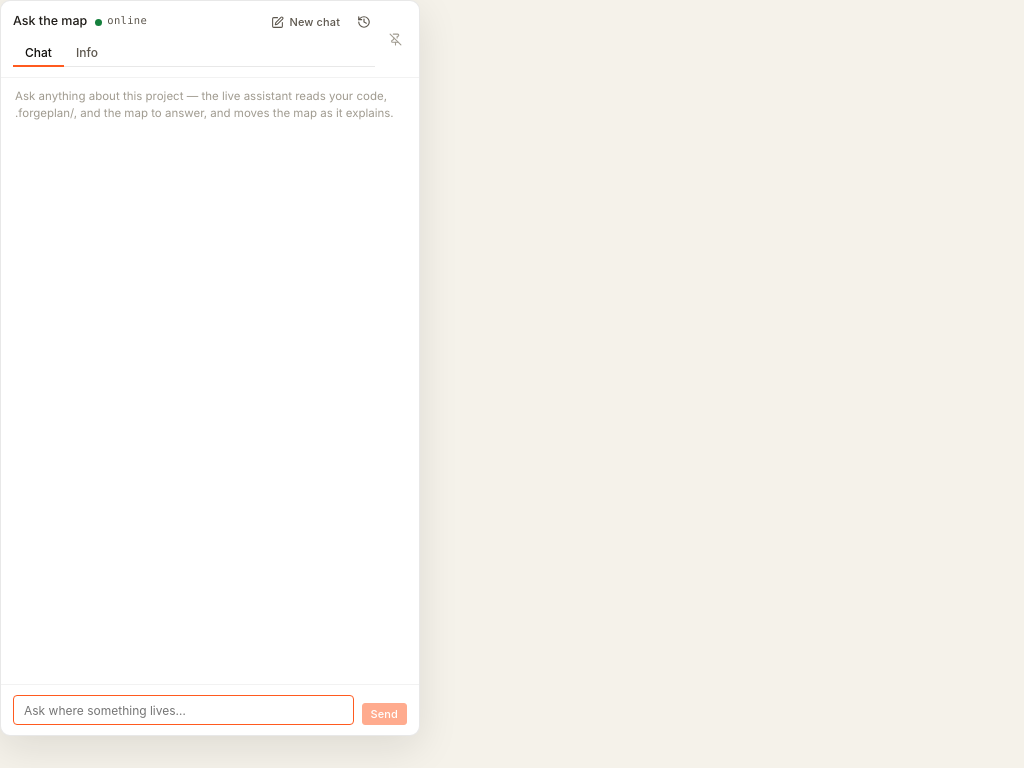
it: MapChat — tier1 (live) › shows Stop instead of Send while pending, then Send (disabled when empty) once the answer completes
Type "Where does artifact recording live?" into the text box named "Ask the map a question" at (183, 710), box [13, 695, 354, 725]
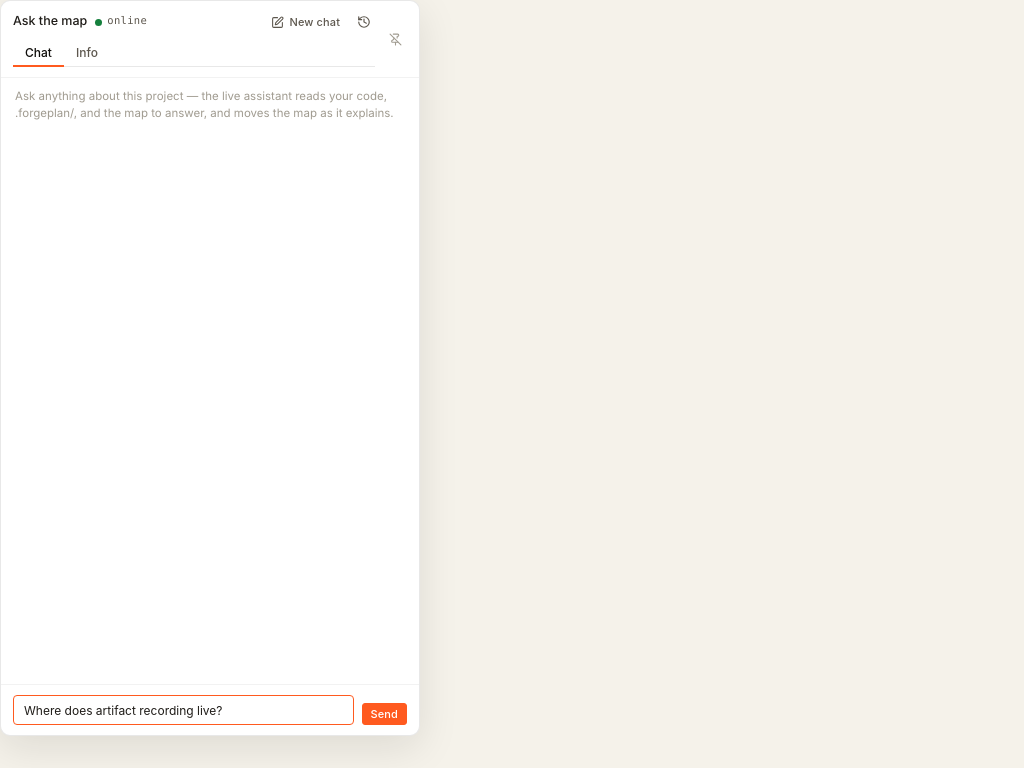
Click the button "Send" at (384, 714), box [362, 703, 407, 725]
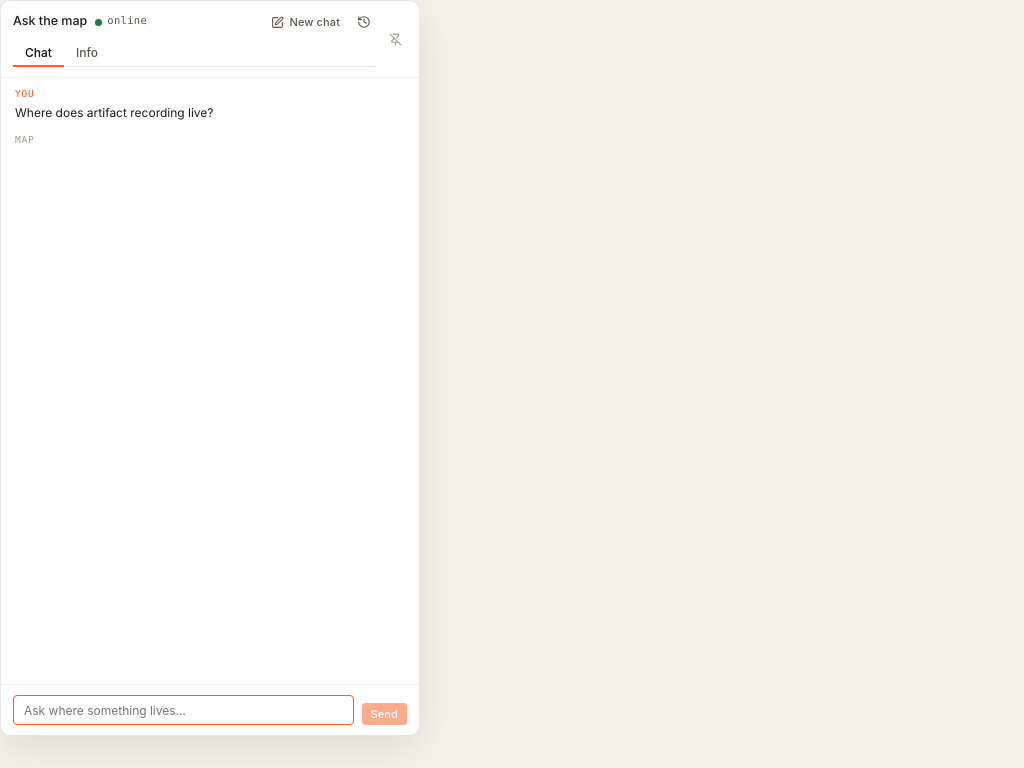
Expected: the text box named "Ask the map a question" is empty
Expected: the button "Send" is disabled, [362, 703, 407, 725]
Type "another question" into the text box named "Ask the map a question" at (183, 710), box [13, 695, 354, 725]
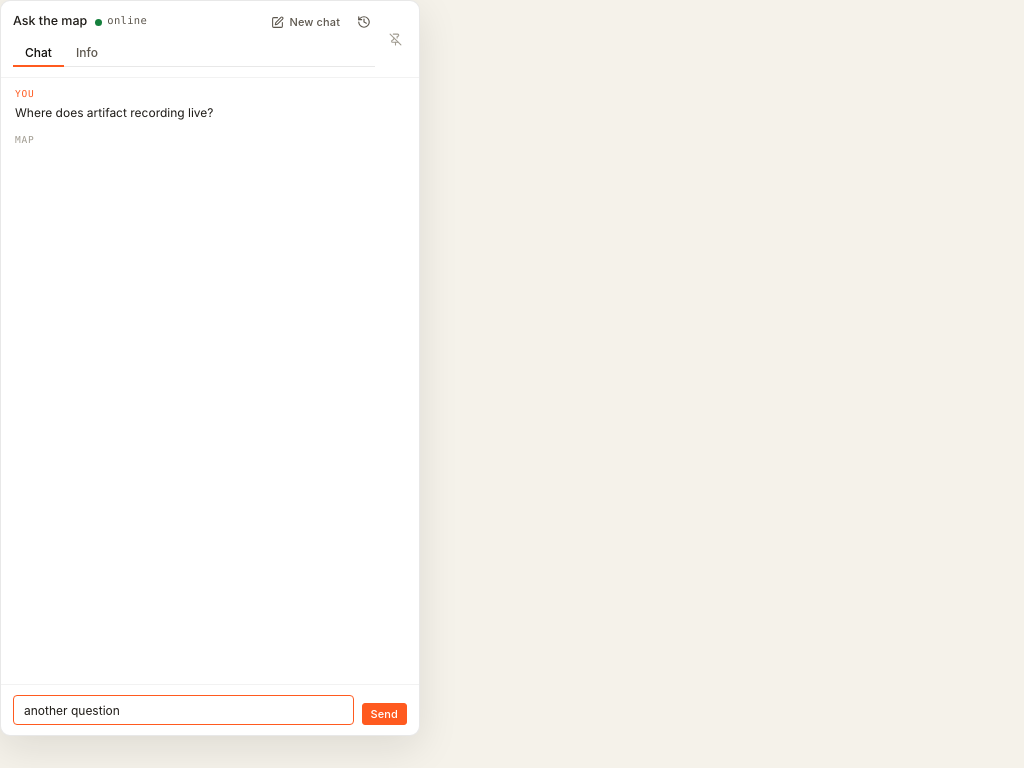
Expected: the button "Send" is enabled, [362, 703, 407, 725]
